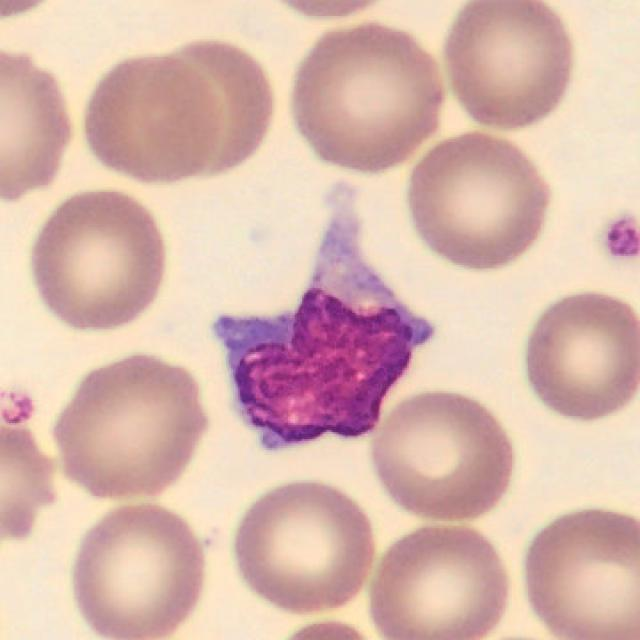Monocito: (215, 203, 430, 446)
